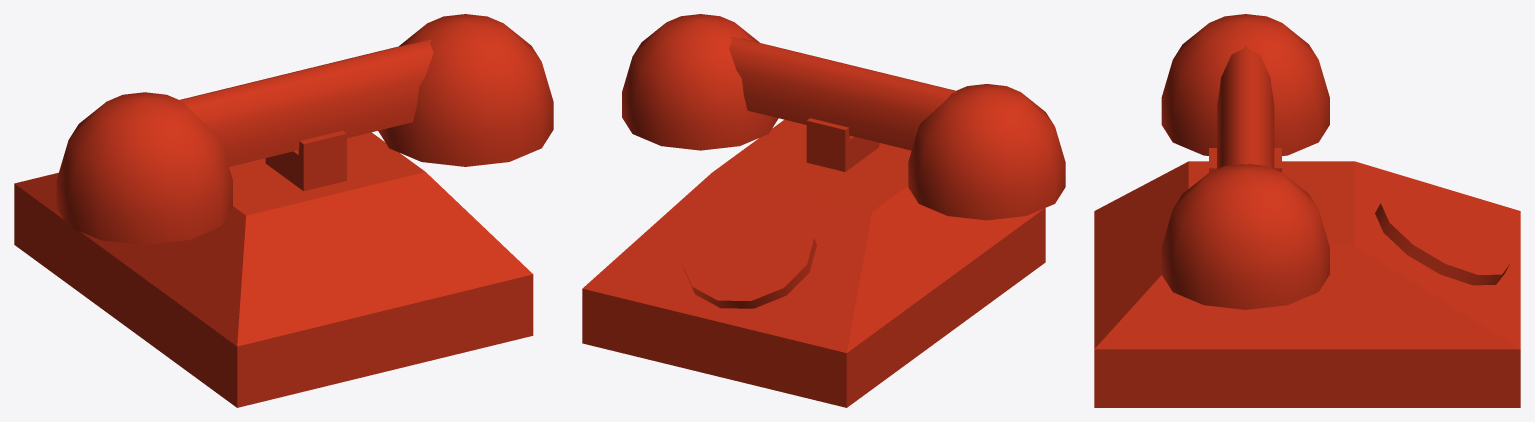
The model's file is PHONE.fbx.
3 renders of one model, left to right at view 1: azimuth 30°, elevation 25°; view 2: azimuth 150°, elevation 25°; view 3: azimuth 270°, elevation 25°, orthographic. The views are drawn at different scales.
Visible parts, largest first — view 1: Phone; view 2: Phone; view 3: Phone.
Part boxes in pixels (x1=…): Phone: x1=14, y1=14, x2=553, y2=407; Phone: x1=582, y1=14, x2=1065, y2=407; Phone: x1=1094, y1=14, x2=1520, y2=407.
Size of the model in its own units: 1.77 by 0.9057 by 1.45.
